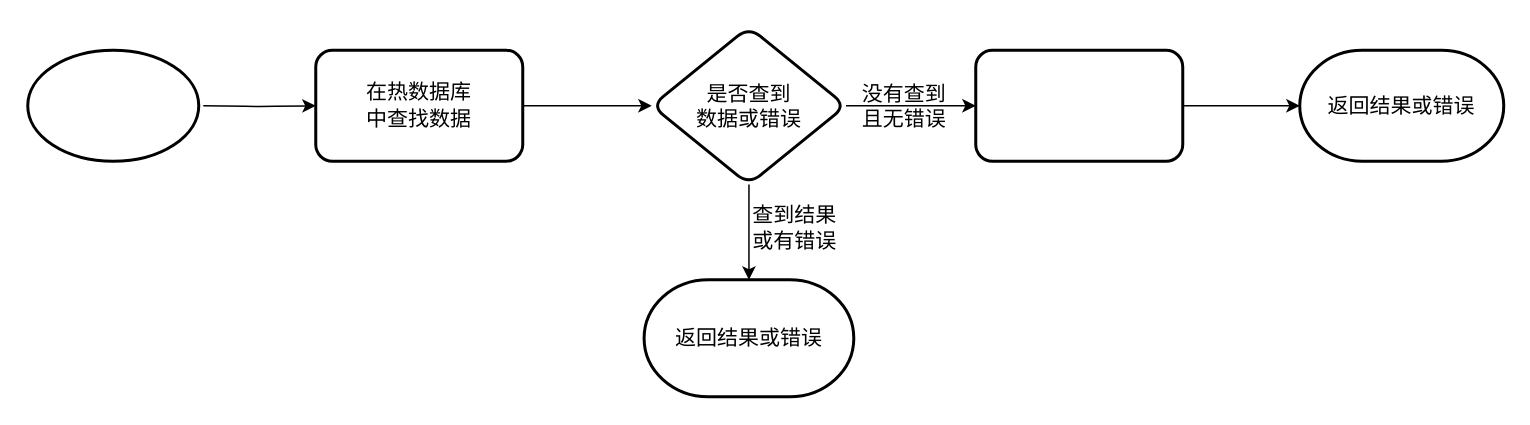
This 1530x425 diagram has some shape labels left out. The centre of each missing label's shape, as x and y in pixels:
"在冷数据库 中查找数据" goes at (x=1079, y=105).
"开始" goes at (x=113, y=105).
